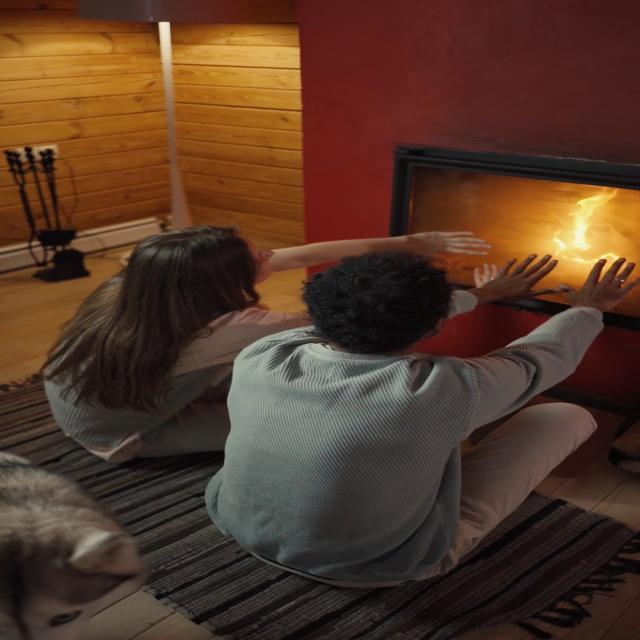Fire: (545, 184, 632, 276)
